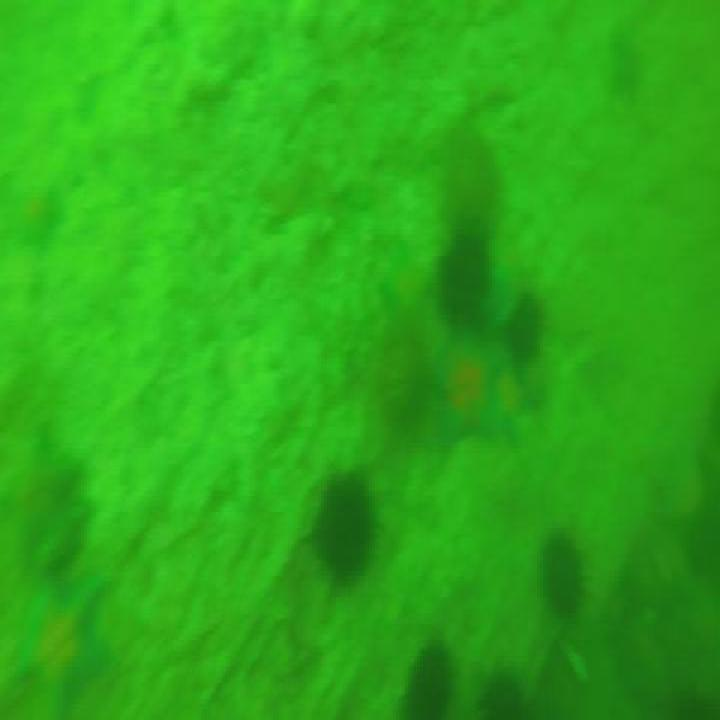echinus: (5, 564, 103, 706), (421, 318, 521, 455), (13, 434, 84, 590), (439, 224, 496, 338), (311, 471, 370, 581), (404, 643, 454, 720), (542, 532, 585, 618), (506, 284, 546, 361)
